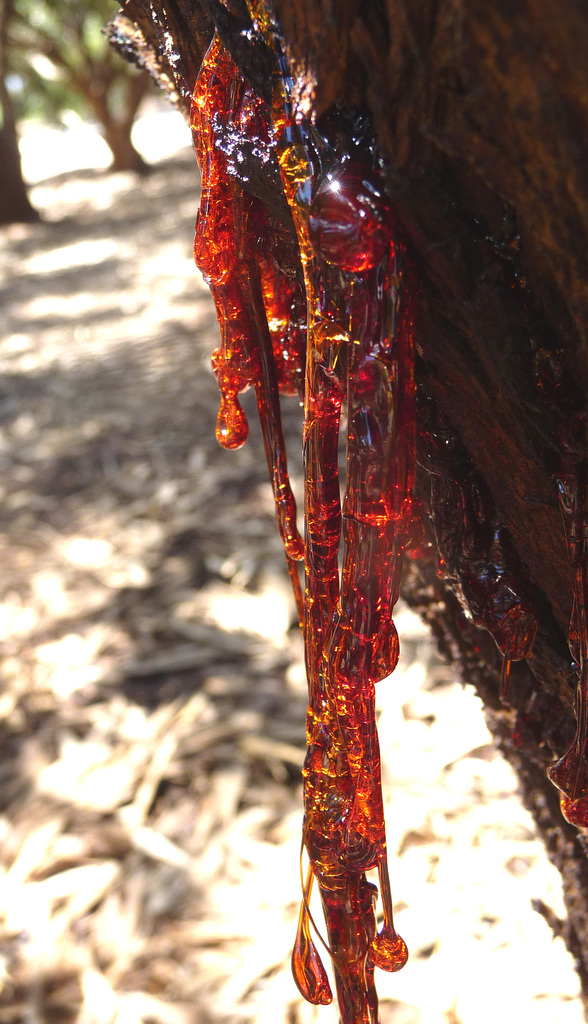Tree: (94, 0, 587, 1023), (0, 0, 151, 225)
